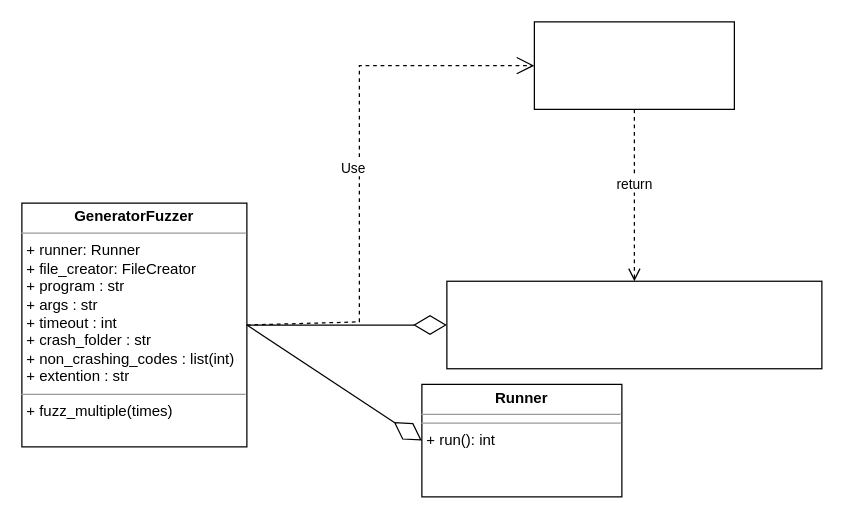
This 844x519 diagram has some shape labels left out. The shapes that lost their labels are listed below. From the top down, each one's centre as x and y in pixels, then its label:
At [633,65]: "GeneratorParser + get_creator(): FileCreator".
At [634,324]: "FileCreator + create_file(mutaion): list(MutationReports), bytes".
